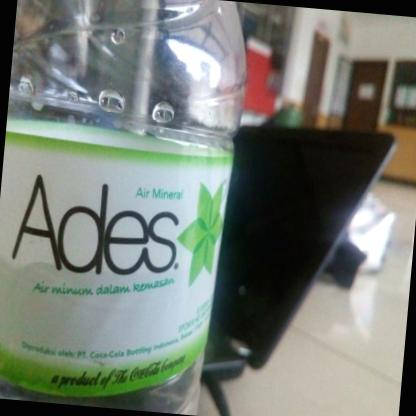plastic_bottles: (0, 0, 247, 414)
